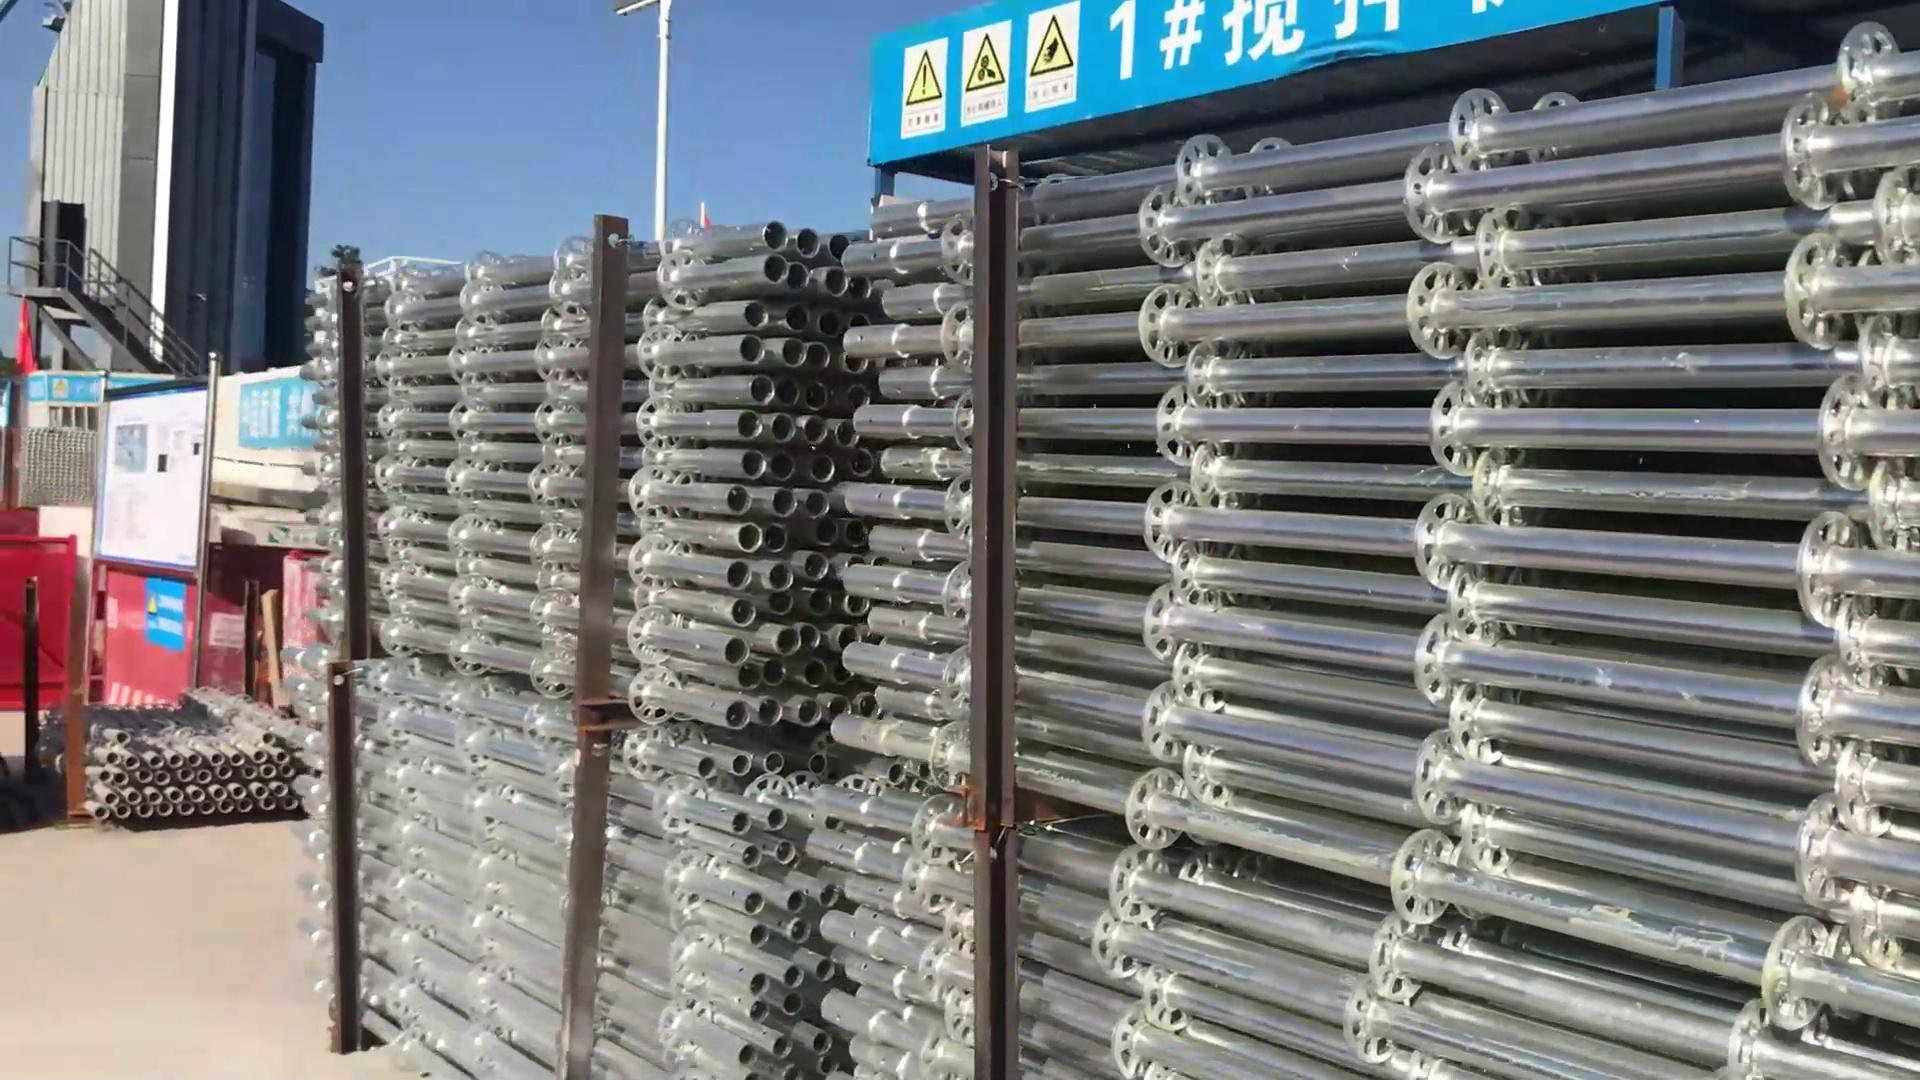fence: (96, 566, 244, 709), (3, 530, 78, 707)
scaffold: (320, 33, 1919, 1059), (80, 705, 311, 839)
slogan: (891, 7, 1093, 150), (232, 385, 309, 440), (144, 579, 185, 650)
